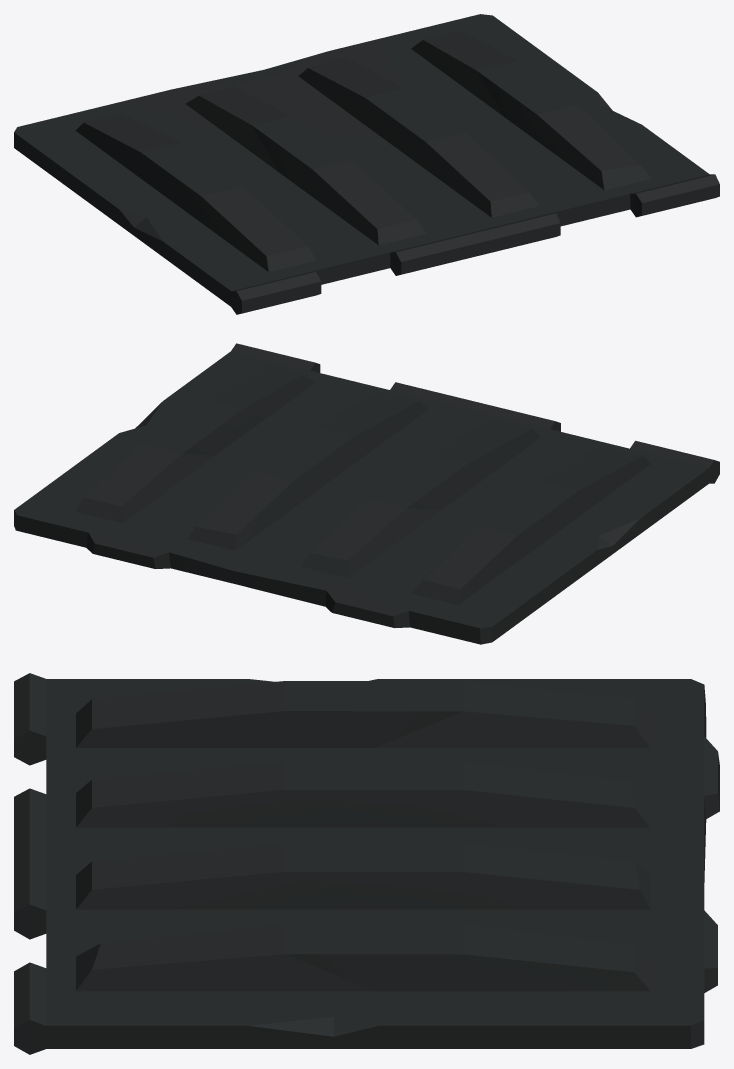
Rendered from SM_Prop_Dumptser_01_Lid_01.obj.
3 views of the same model, one above another, from view 1: azimuth 30°, elevation 25°; view 2: azimuth 150°, elevation 25°; view 3: azimuth 270°, elevation 25° (orthographic). The views are drawn at different scales.
Parts seen in each view (by area): view 1: SM_Prop_Dumptser_01_Lid_01_0; view 2: SM_Prop_Dumptser_01_Lid_01_0; view 3: SM_Prop_Dumptser_01_Lid_01_0.
Boxes of the visible parts, left/top/right/bottom form: SM_Prop_Dumptser_01_Lid_01_0: left=14, top=14, right=719, bottom=314; SM_Prop_Dumptser_01_Lid_01_0: left=14, top=343, right=719, bottom=644; SM_Prop_Dumptser_01_Lid_01_0: left=14, top=673, right=719, bottom=1054.
Size of the model in its own units: 1.38 by 0.1182 by 1.18.
1 material, 1 textured.
